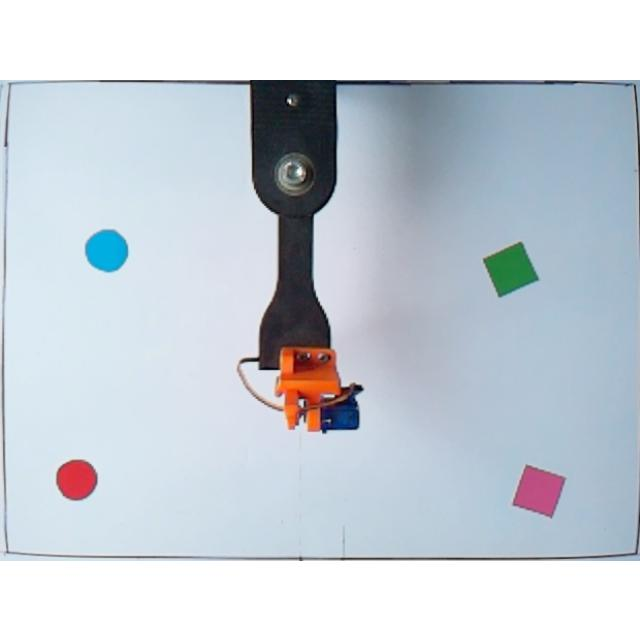blueCircle: (82, 226, 132, 274)
greenSquare: (482, 240, 540, 298)
pinkSquare: (509, 463, 568, 519)
redCircle: (54, 456, 100, 500)
